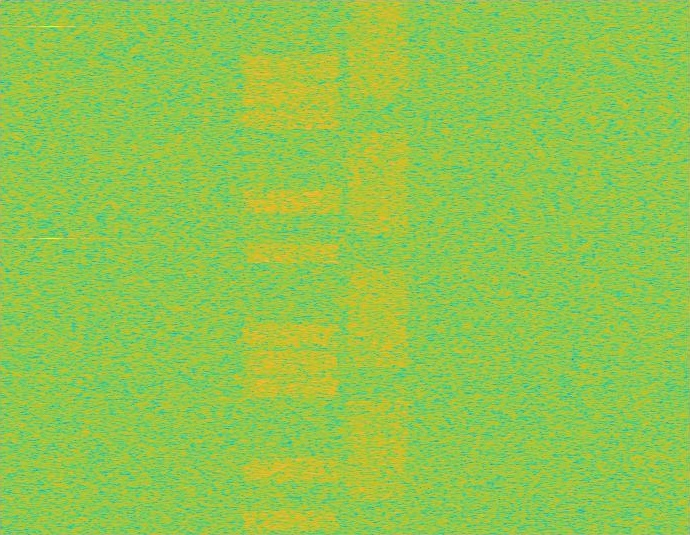5G: (344, 0, 413, 534)
LTE: (239, 0, 343, 534)
Radar: (44, 0, 58, 534)
